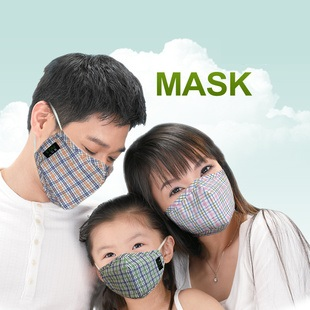face_mask: (43, 109, 130, 196), (150, 147, 230, 228), (91, 217, 162, 297)
